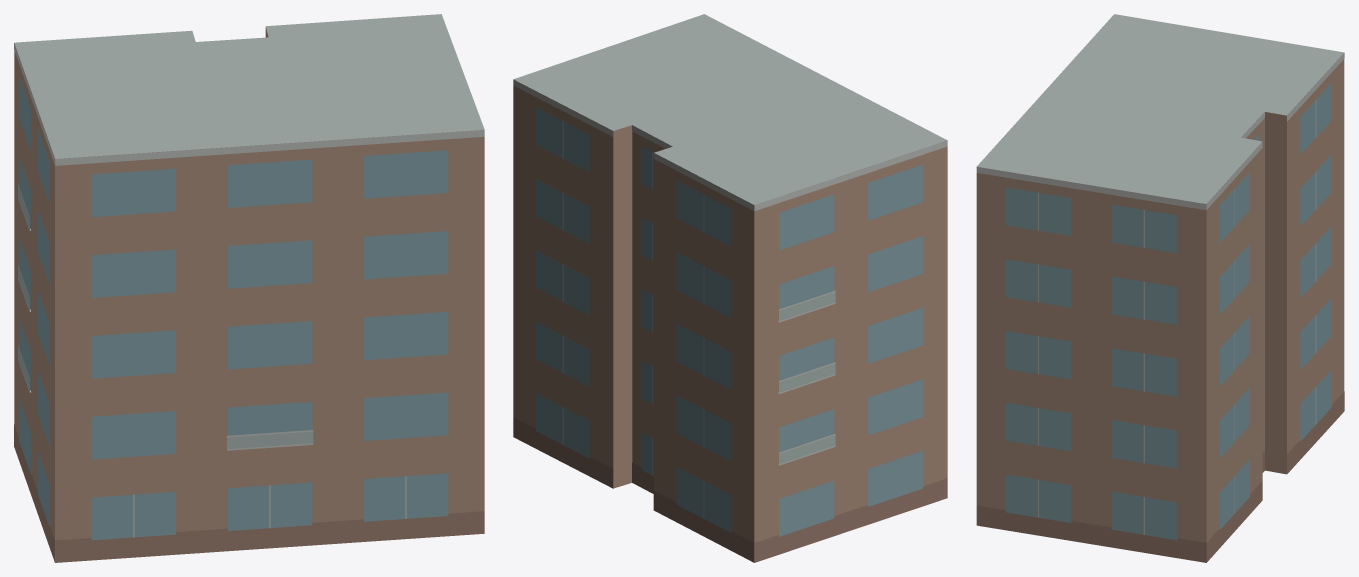
Rendered from survey-upis-32955186.glb.
3 views of the same model, side by side, from view 1: azimuth 30°, elevation 25°; view 2: azimuth 150°, elevation 25°; view 3: azimuth 270°, elevation 25° (orthographic). The views are drawn at different scales.
Parts seen in each view (by area): view 1: survey-upis-32955186.tmp; view 2: survey-upis-32955186.tmp; view 3: survey-upis-32955186.tmp.
Part boxes in pixels (left/top/right/bottom): survey-upis-32955186.tmp: left=14, top=14, right=484, bottom=562; survey-upis-32955186.tmp: left=513, top=14, right=947, bottom=562; survey-upis-32955186.tmp: left=976, top=14, right=1344, bottom=562.
Size of the model in its own units: 16.26 by 14.3 by 13.3.
